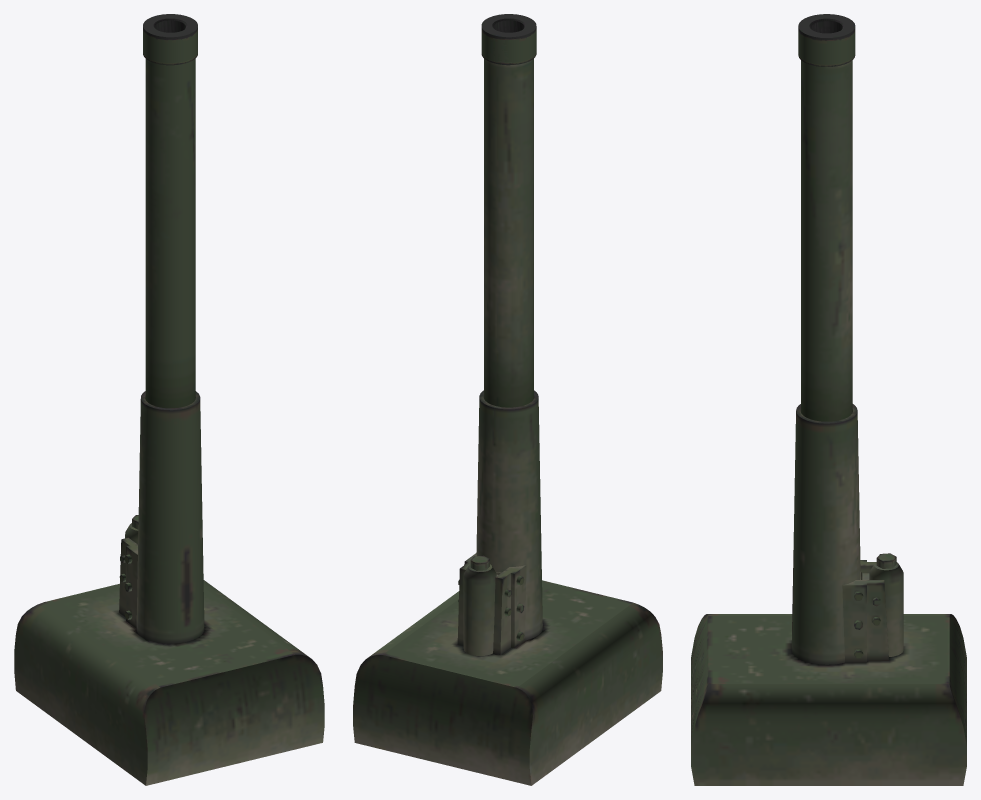
File: Gun_01.glb
The picture shows the model from 3 angles, left to right: view 1: azimuth 30°, elevation 25°; view 2: azimuth 150°, elevation 25°; view 3: azimuth 270°, elevation 25°; orthographic projection. The views are drawn at different scales.
Visible parts, largest first — view 1: set_0_group_0; view 2: set_0_group_0; view 3: set_0_group_0.
Part boxes in pixels (x1,y1,x2,y2): set_0_group_0: (14, 14, 324, 785); set_0_group_0: (353, 14, 662, 785); set_0_group_0: (691, 14, 966, 785).
Bounding box in the file's own units: 0.4959 × 1.85 × 0.6474.
Materials: 1 (1 with a texture image).
